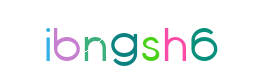6: (133, 0, 213, 80)
B: (65, 0, 145, 80)
G: (92, 0, 172, 80)
H: (123, 0, 203, 80)
I: (31, 0, 111, 80)
N: (88, 0, 168, 80)
S: (110, 0, 190, 80)
